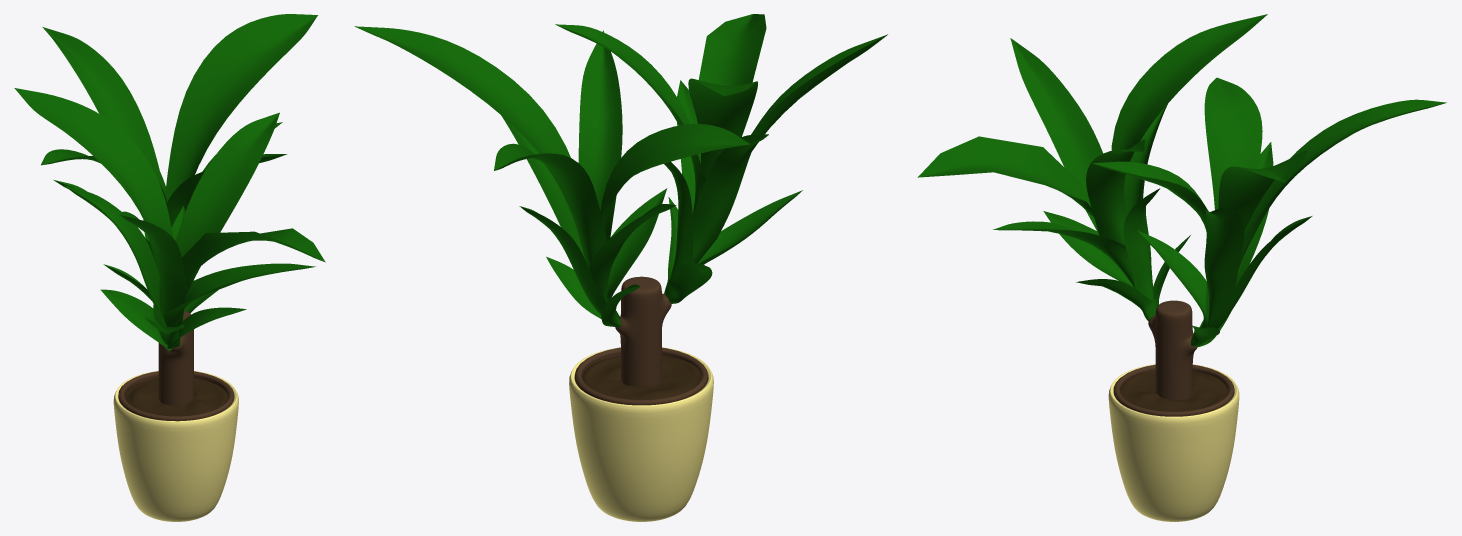
Rendered from Plant.fbx.
3 views of the same model, side by side, from view 1: azimuth 30°, elevation 25°; view 2: azimuth 150°, elevation 25°; view 3: azimuth 270°, elevation 25° (orthographic). The views are drawn at different scales.
Visible parts, largest first — view 1: Plant; view 2: Plant; view 3: Plant.
Part boxes in pixels (x1,y1,x2,y2): Plant: (14, 14, 325, 521); Plant: (354, 14, 887, 521); Plant: (917, 14, 1446, 521).
Size of the model in its own units: 342 by 411 by 454.
